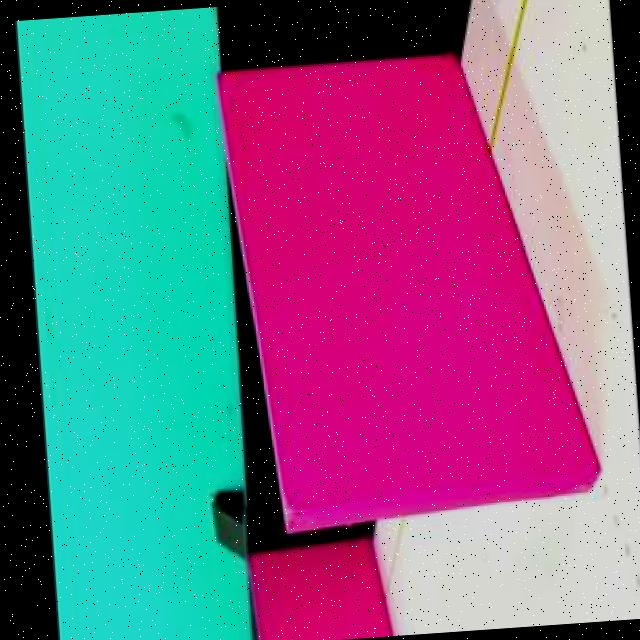xparking: (270, 66, 568, 508), (256, 565, 389, 640)
